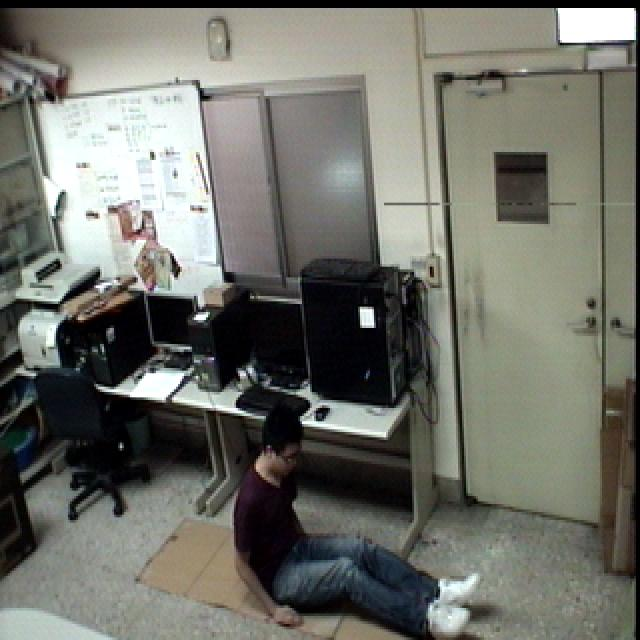sit: (224, 394, 486, 640)
